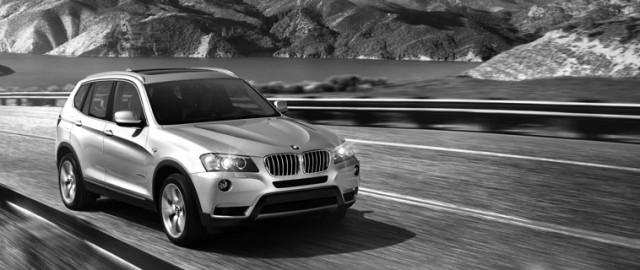car: (56, 63, 367, 245)
